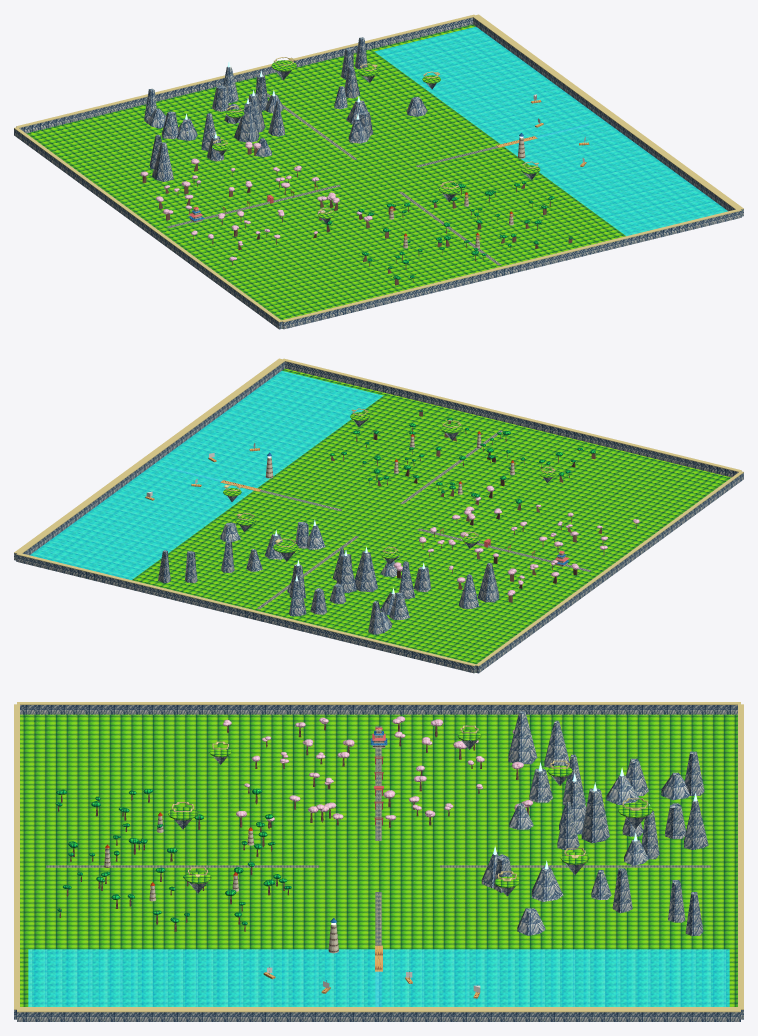
File: sandbox_outer_world.glb
3 views of the same model, one above another, from view 1: azimuth 30°, elevation 25°; view 2: azimuth 150°, elevation 25°; view 3: azimuth 270°, elevation 25° (orthographic). The views are drawn at different scales.
Visible parts, largest first — view 1: OuterWorld_Square_Terrain, Biome_East_AzureOcean, Batch_Mat_Stone, Batch_Mat_Brass, Highway_South_Meadow, Batch_Mat_LeafSakura, Batch_Mat_LeafGreen; view 2: OuterWorld_Square_Terrain, Biome_East_AzureOcean, Batch_Mat_Stone, Batch_Mat_Brass, Highway_South_Meadow, Batch_Mat_LeafSakura, Batch_Mat_LeafGreen; view 3: OuterWorld_Square_Terrain, Biome_East_AzureOcean, Batch_Mat_Stone, Batch_Mat_Brass, Highway_South_Meadow, Batch_Mat_LeafSakura, Batch_Mat_LeafGreen, Batch_Mat_Wall.
Boxes of the visible parts, bbox=[...] form: OuterWorld_Square_Terrain: bbox=[26, 24, 726, 320]; Biome_East_AzureOcean: bbox=[374, 27, 727, 235]; Batch_Mat_Stone: bbox=[14, 17, 743, 329]; Batch_Mat_Brass: bbox=[14, 14, 743, 322]; Highway_South_Meadow: bbox=[167, 87, 588, 265]; Batch_Mat_LeafSakura: bbox=[140, 141, 372, 260]; Batch_Mat_LeafGreen: bbox=[324, 181, 572, 279]; OuterWorld_Square_Terrain: bbox=[31, 368, 731, 664]; Biome_East_AzureOcean: bbox=[30, 371, 383, 579]; Batch_Mat_Stone: bbox=[14, 361, 743, 673]; Batch_Mat_Brass: bbox=[14, 358, 743, 666]; Highway_South_Meadow: bbox=[170, 430, 591, 609]; Batch_Mat_LeafSakura: bbox=[393, 485, 639, 595]; Batch_Mat_LeafGreen: bbox=[329, 410, 595, 503]; OuterWorld_Square_Terrain: bbox=[20, 714, 737, 1006]; Biome_East_AzureOcean: bbox=[28, 949, 729, 1006]; Batch_Mat_Stone: bbox=[14, 705, 743, 1021]; Batch_Mat_Brass: bbox=[14, 702, 743, 1012]; Highway_South_Meadow: bbox=[46, 726, 710, 1006]; Batch_Mat_LeafSakura: bbox=[223, 716, 532, 821]; Batch_Mat_LeafGreen: bbox=[55, 788, 291, 925]; Batch_Mat_Wall: bbox=[104, 729, 385, 953].
Size of the model in its own units: 1943 by 187 by 1936.
Materials: 13 (13 with a texture image).
